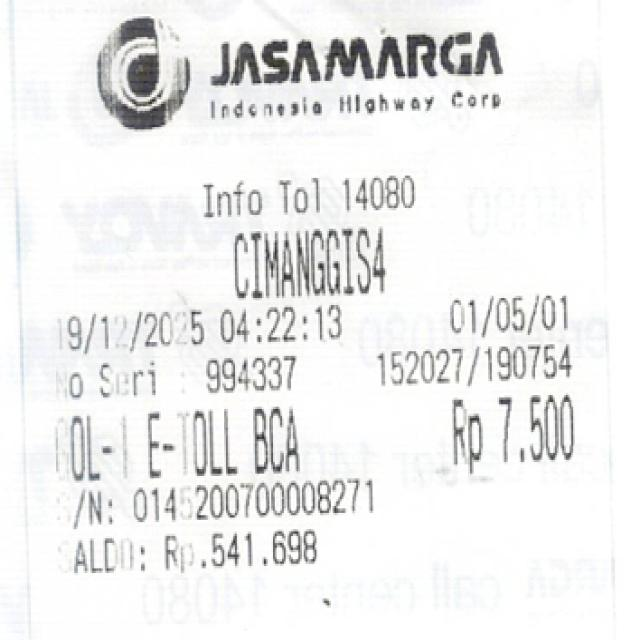date: (51, 309, 366, 349)
store: (202, 32, 528, 88)
total: (438, 392, 588, 478)
